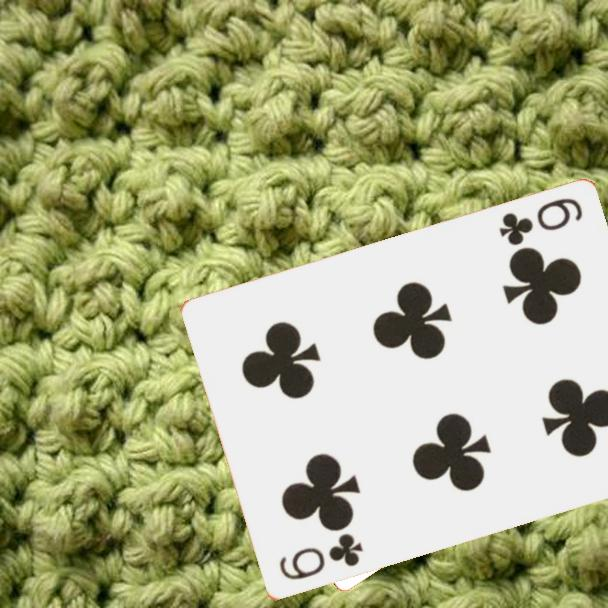c06: (275, 530, 366, 584), (495, 195, 585, 249)
